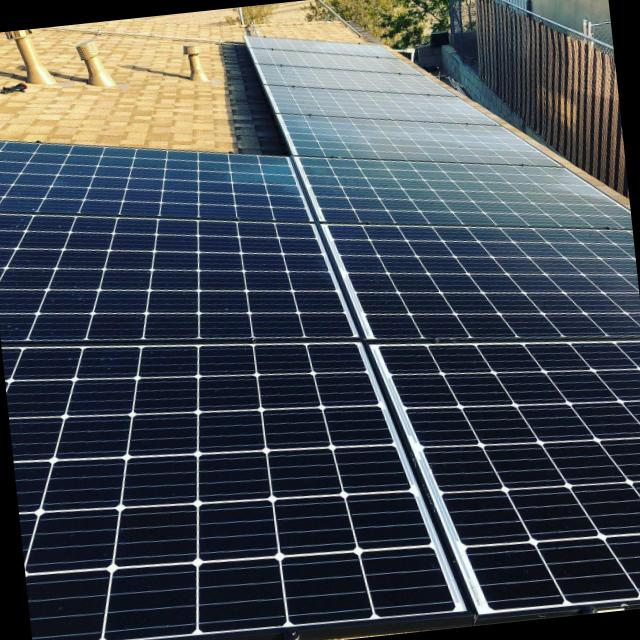no faulty: (0, 34, 640, 640)
